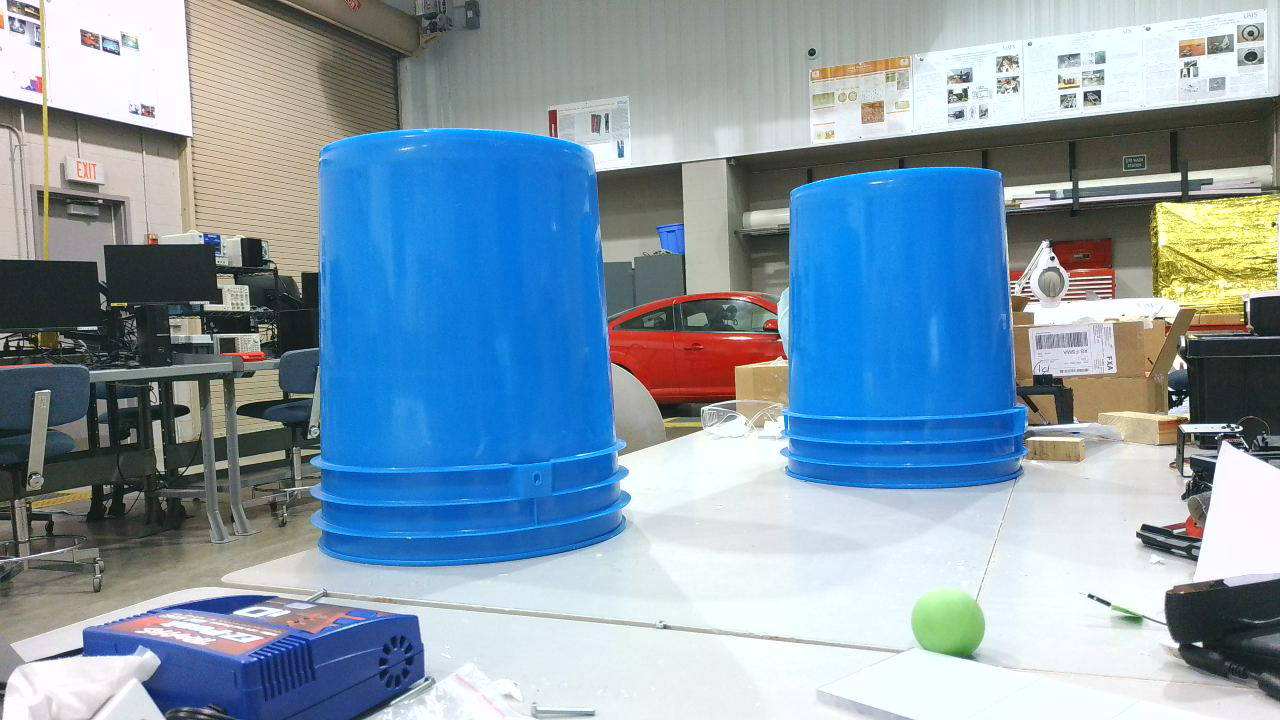blue_bucket: (311, 129, 640, 576), (782, 167, 1040, 498)
